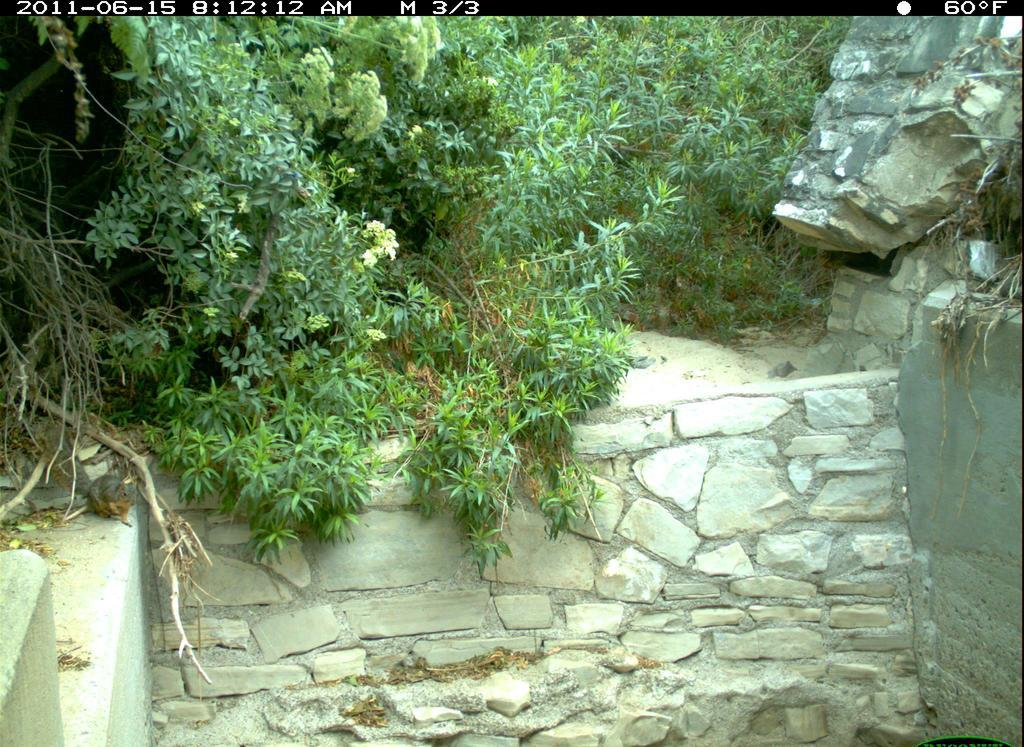squirrel: (79, 459, 148, 534)
